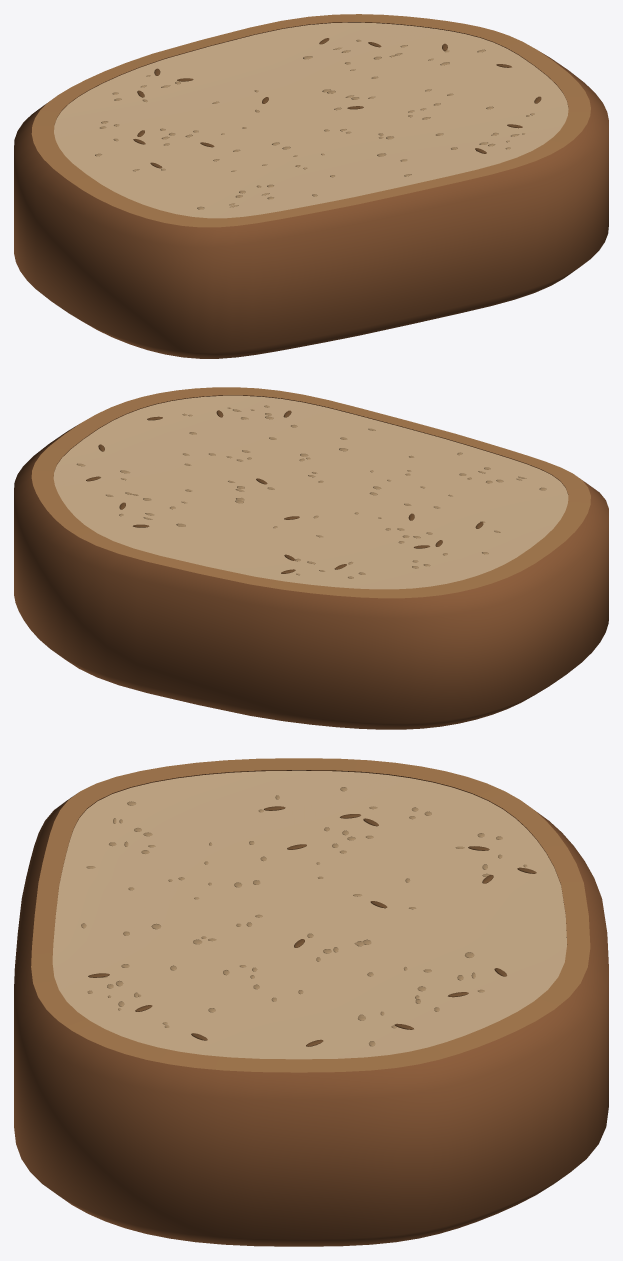
File: bread-new-york-rye.glb
The picture shows the model from 3 angles, top to bottom: view 1: azimuth 30°, elevation 25°; view 2: azimuth 150°, elevation 25°; view 3: azimuth 270°, elevation 25°; orthographic projection. The views are drawn at different scales.
Parts seen in each view (by area): view 1: Rounded rye crust, Rye warm wheaten crumb geometry, Rye caramel shoulders geometry, Rye recessed grain geometry, Rye toasted caraway geometry; view 2: Rounded rye crust, Rye warm wheaten crumb geometry, Rye caramel shoulders geometry, Rye recessed grain geometry, Rye toasted caraway geometry; view 3: Rye warm wheaten crumb geometry, Rounded rye crust, Rye caramel shoulders geometry, Rye recessed grain geometry, Rye toasted caraway geometry.
Boxes of the visible parts, <box> form: Rounded rye crust: <box>14,22,608,358</box>; Rye warm wheaten crumb geometry: <box>54,22,568,218</box>; Rye caramel shoulders geometry: <box>31,14,590,227</box>; Rye recessed grain geometry: <box>95,39,534,209</box>; Rye toasted caraway geometry: <box>133,38,541,168</box>; Rounded rye crust: <box>14,395,608,729</box>; Rye warm wheaten crumb geometry: <box>53,395,568,589</box>; Rye caramel shoulders geometry: <box>31,387,590,598</box>; Rye recessed grain geometry: <box>76,405,546,578</box>; Rye toasted caraway geometry: <box>86,410,483,573</box>; Rye warm wheaten crumb geometry: <box>52,770,566,1059</box>; Rounded rye crust: <box>14,770,608,1246</box>; Rye caramel shoulders geometry: <box>31,758,590,1072</box>; Rye recessed grain geometry: <box>81,787,526,1046</box>; Rye toasted caraway geometry: <box>88,806,536,1046</box>.
Bounding box in the file's own units: 0.98 × 0.2456 × 0.7368.
